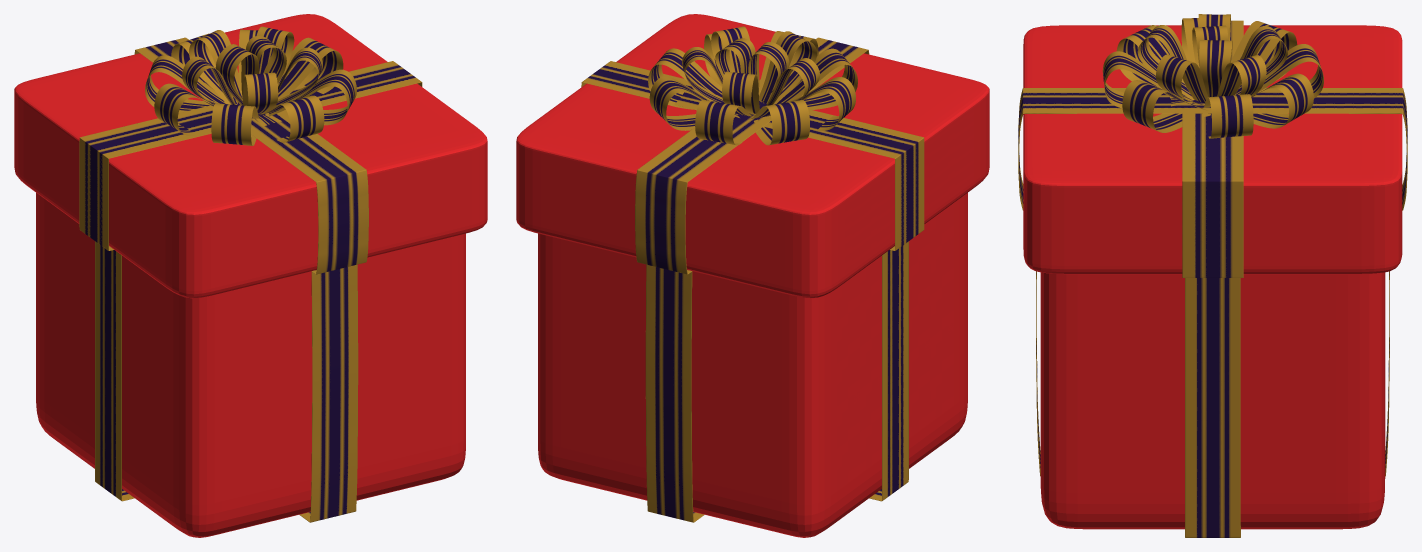
Rendered from gift_box_anim- Copy 1.fbx.
The picture shows the model from 3 angles, left to right: view 1: azimuth 30°, elevation 25°; view 2: azimuth 150°, elevation 25°; view 3: azimuth 270°, elevation 25°; orthographic projection. The views are drawn at different scales.
Parts seen in each view (by area): view 1: red_cube.001; view 2: red_cube.001; view 3: red_cube.001.
Part boxes in pixels (x1,y1,x2,y2): red_cube.001: (14, 14, 487, 537); red_cube.001: (516, 14, 989, 537); red_cube.001: (1018, 14, 1407, 537).
Size of the model in its own units: 221 by 277 by 226.
